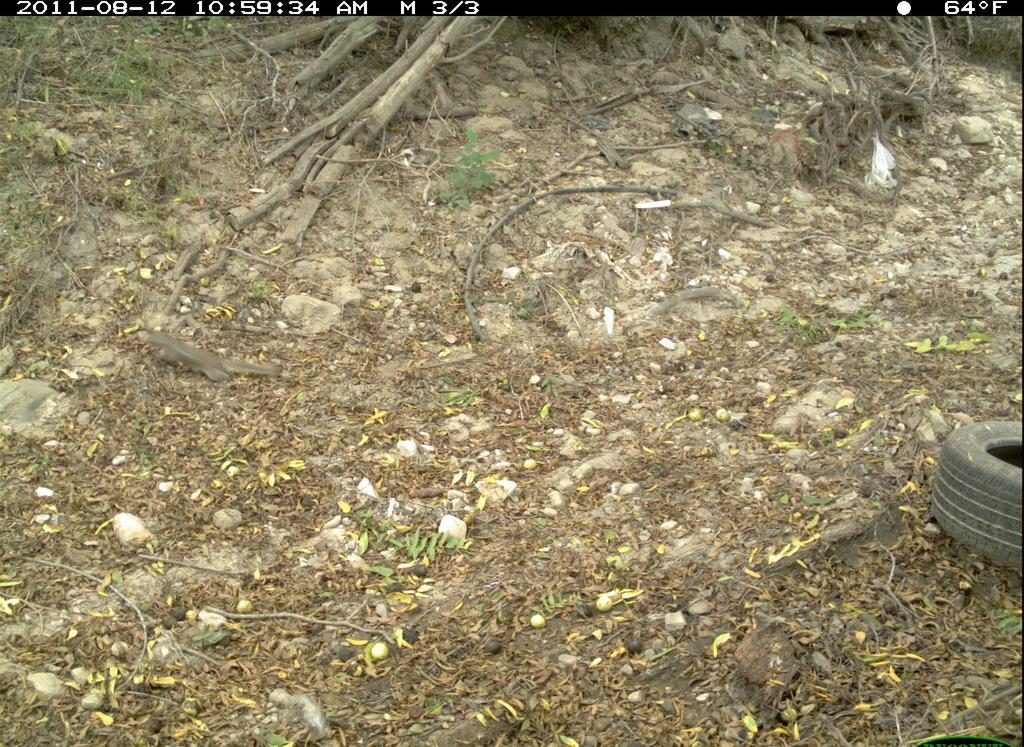squirrel: (123, 319, 283, 391)
